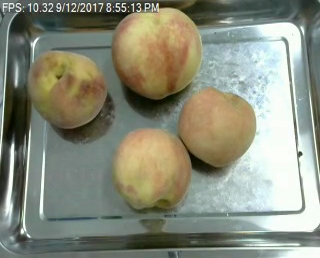Peach: (111, 5, 202, 100), (111, 127, 191, 210), (25, 49, 107, 128), (178, 86, 256, 169)
